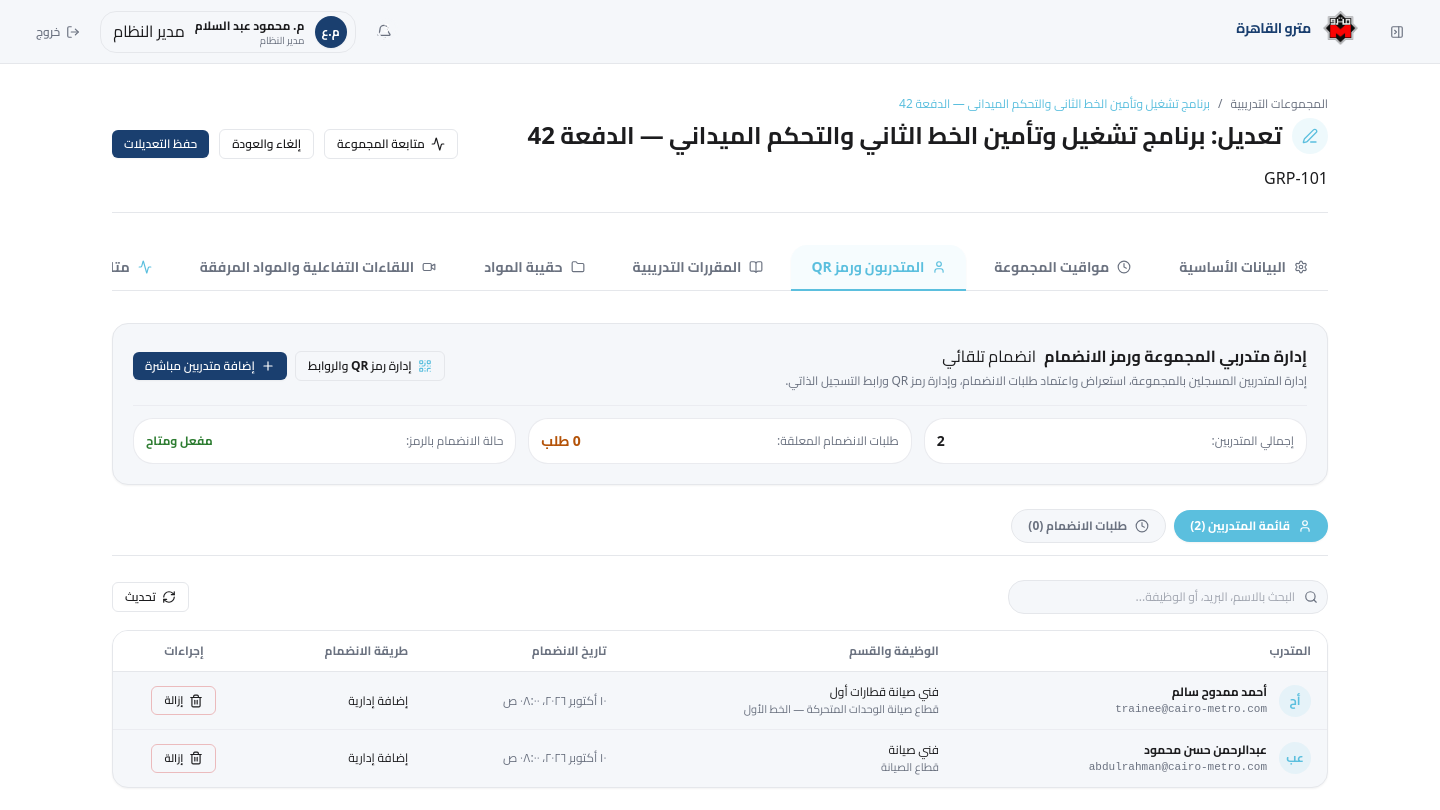
Test case: Increment 11 — Phase 1: Candidate Trainees Central Directory Unification › 2. Integration with DirectAssignModal & Group Enrollment Workflows › displays unified candidates in DirectAssignModal, excluding existing group members
The width and height of the screenshot is (1440, 810).
expect the element with test id "group-members-tab" is shown: met, box [112, 323, 1328, 788]
expect the row with test id "member-row-usr_trainee_003" is shown: met, box [113, 672, 1327, 729]
// Open Direct Assignment Modal
Click the button with test id "open-direct-assign-btn": (210, 366) [133, 352, 287, 380]
(page scrolled)
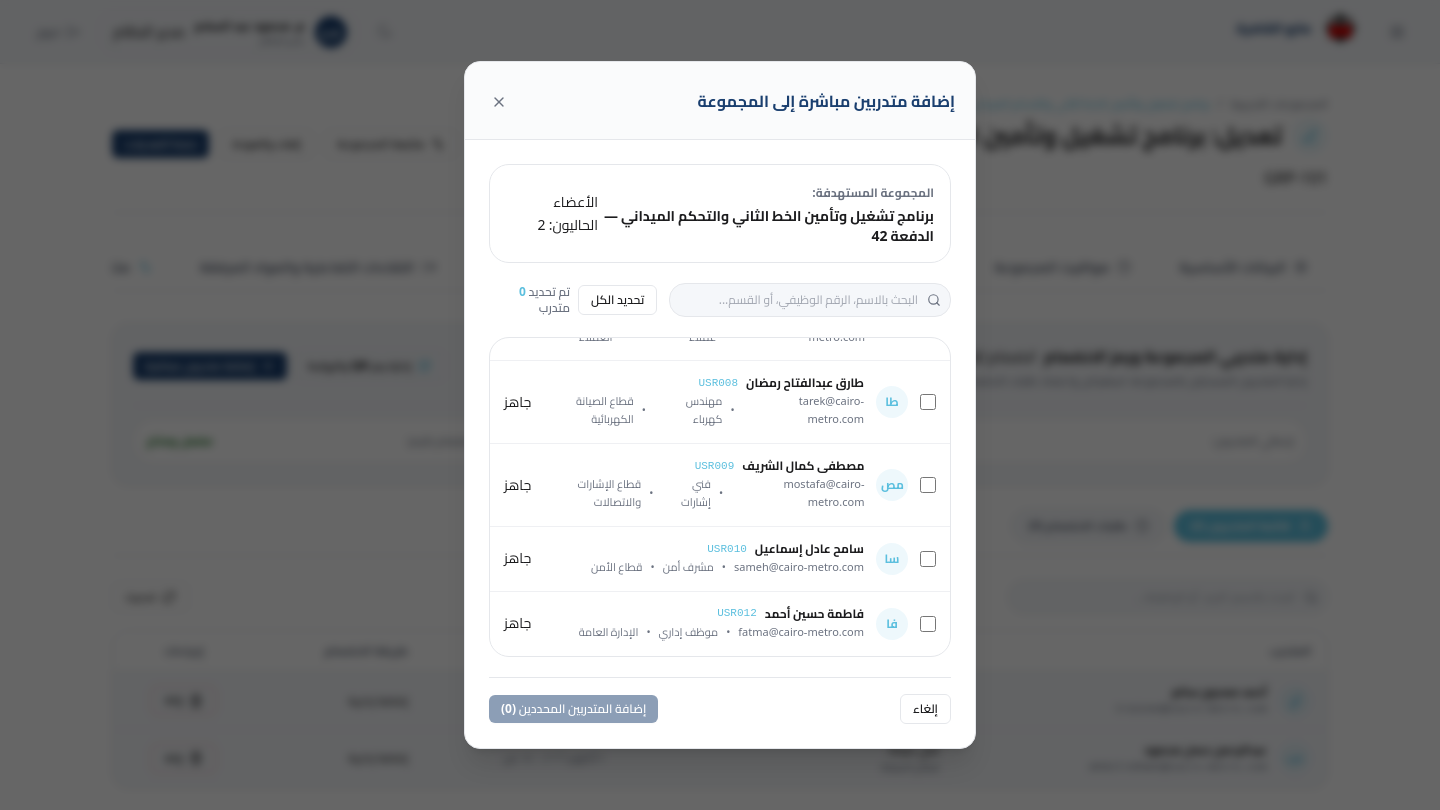
expect the dialog with test id "direct-assign-modal" is shown: met
expect the label with test id "candidate-row-USR012" is shown: met, box [490, 592, 950, 656]
// Select newly unified trainee USR012 and submit
Click the checkbox with test id "candidate-checkbox-USR012": (928, 624) [920, 616, 936, 632]
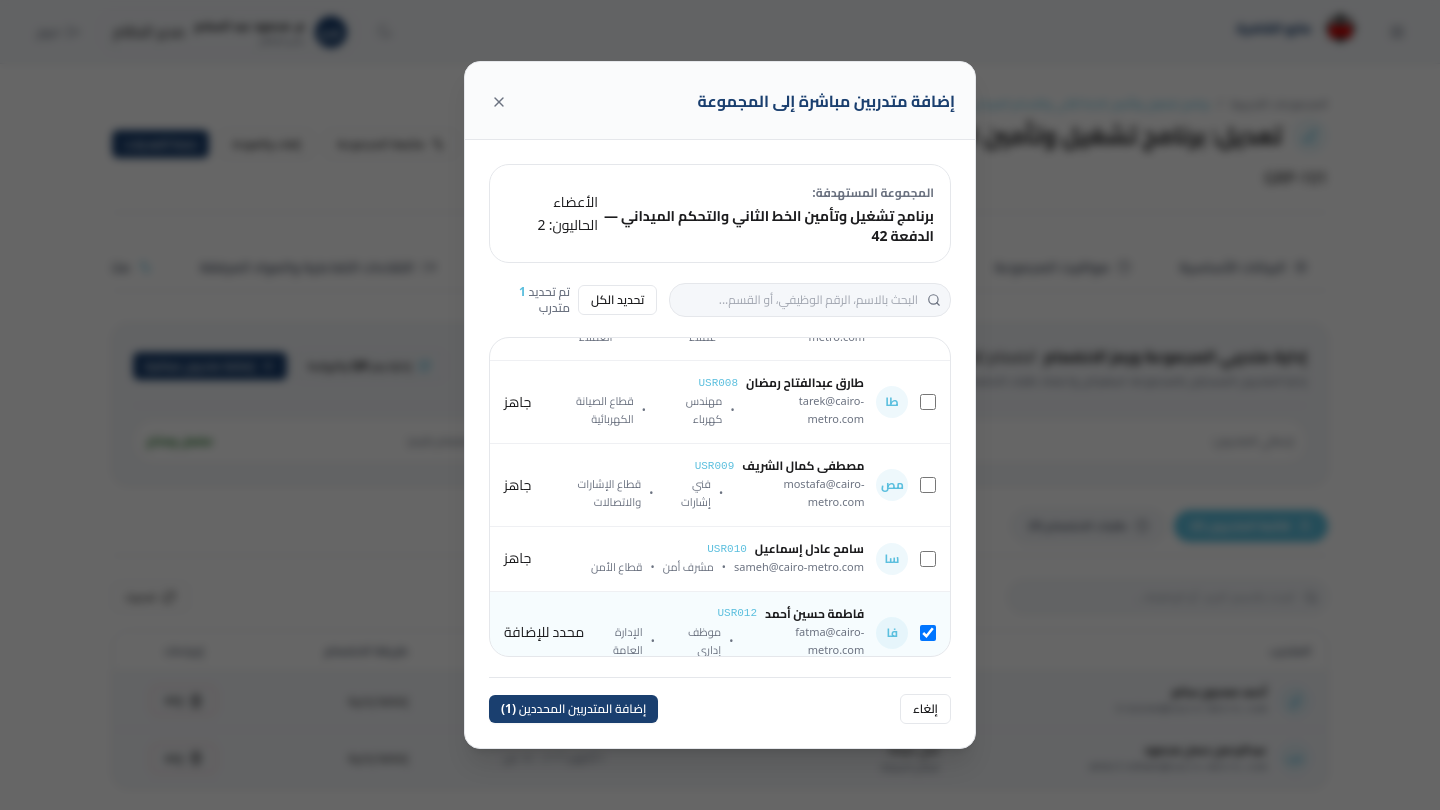
Click the button with test id "confirm-direct-assign-btn": (574, 709) [489, 695, 658, 723]
(page scrolled)
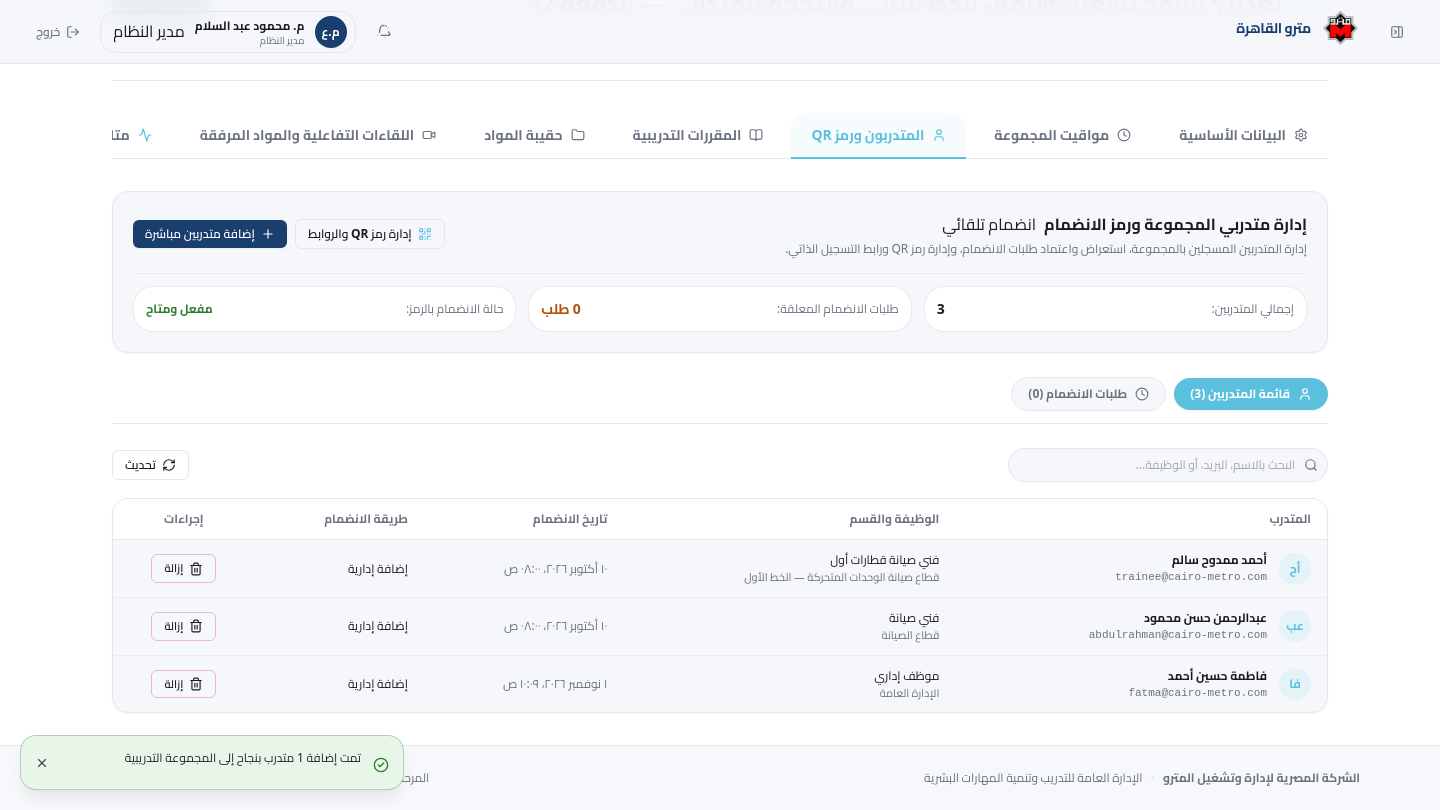
expect the dialog with test id "direct-assign-modal" is gone: met
expect the row with test id "member-row-usr012" is shown: met, box [113, 655, 1327, 712]
